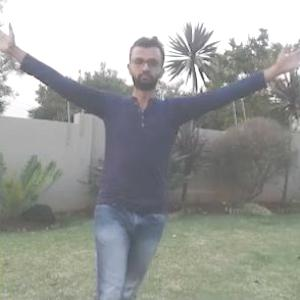takeoff: (2, 30, 297, 299)
